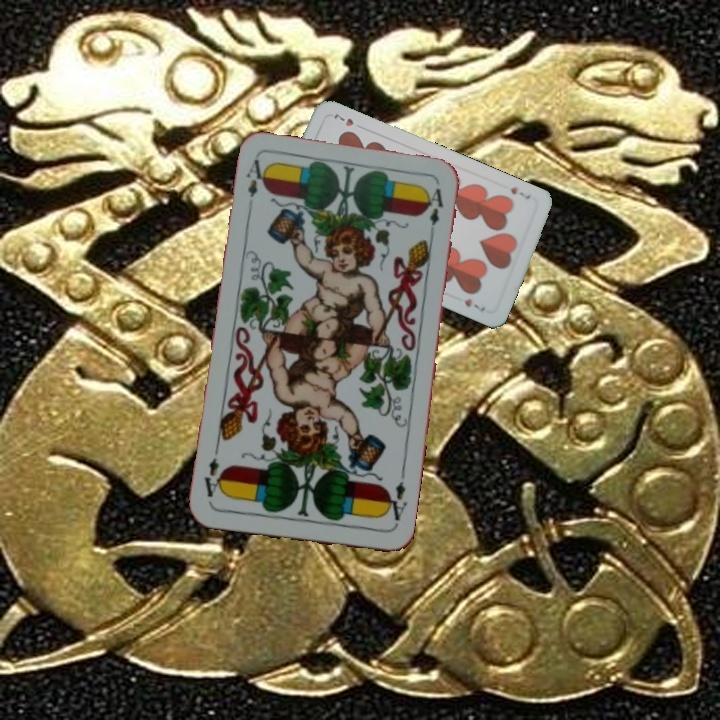EA: (242, 155, 270, 215), (380, 477, 410, 529)
H7: (507, 183, 533, 202)
